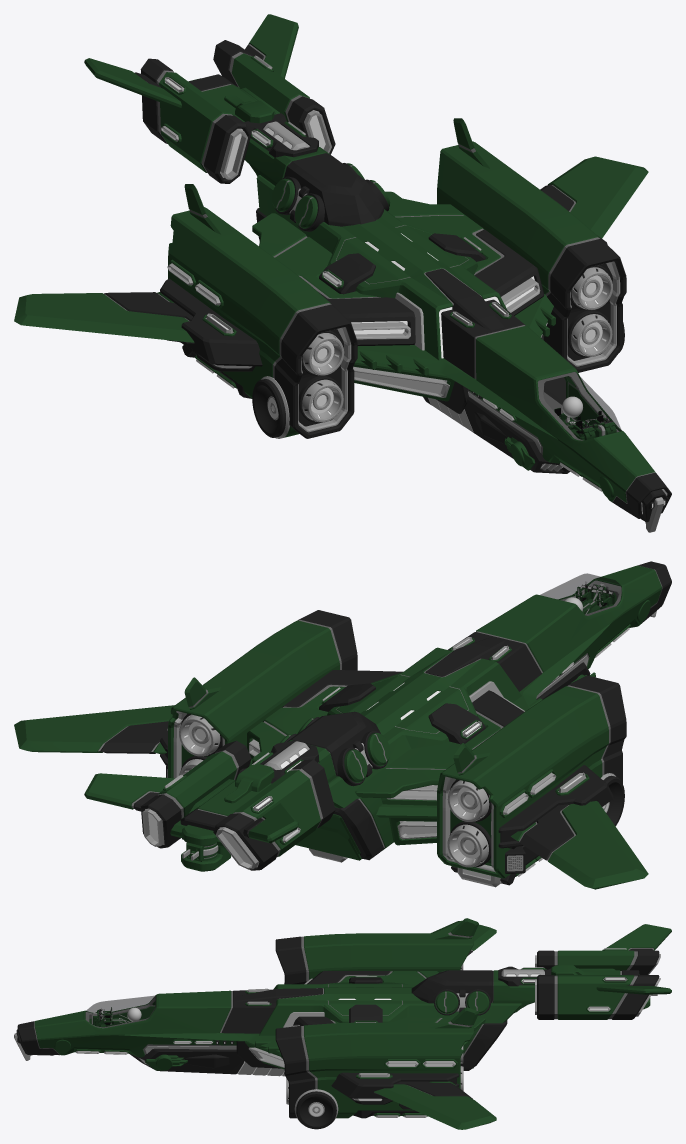
File: Fat Eagle MKIV FBX.fbx
3 views of the same model, one above another, from view 1: azimuth 30°, elevation 25°; view 2: azimuth 150°, elevation 25°; view 3: azimuth 270°, elevation 25° (orthographic). The views are drawn at different scales.
Parts seen in each view (by area): view 1: Fat Eagle MK IV, Engines, Interior; view 2: Fat Eagle MK IV, Engines, Interior; view 3: Fat Eagle MK IV, Engines, Interior.
Boxes of the visible parts, x1,y1,x2,y2 form: Fat Eagle MK IV: (84, 14, 671, 532); Engines: (14, 118, 648, 438); Interior: (537, 372, 619, 440); Fat Eagle MK IV: (84, 561, 671, 871); Engines: (14, 610, 648, 889); Interior: (560, 580, 621, 615); Fat Eagle MK IV: (14, 924, 671, 1076); Engines: (275, 918, 496, 1129); Interior: (85, 996, 155, 1028).
Size of the model in its own units: 4721 by 1238 by 6282.
